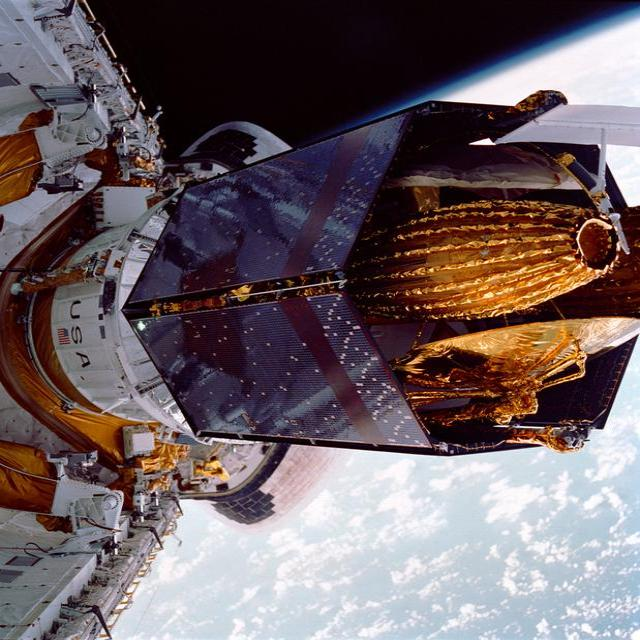medium_debris: (0, 0, 638, 616)
